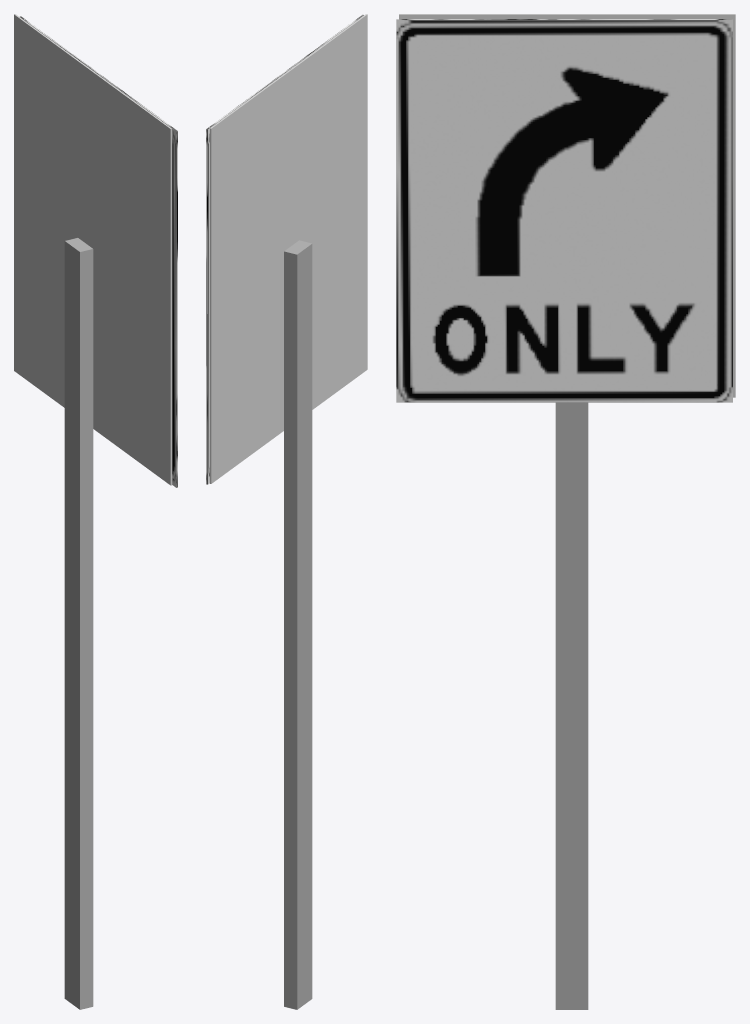
File: right_turn_only.dae
3 renders of one model, left to right at view 1: azimuth 30°, elevation 25°; view 2: azimuth 150°, elevation 25°; view 3: azimuth 270°, elevation 25°, orthographic. The views are drawn at different scales.
Visible parts, largest first — view 1: Cube_002, Cube_001, Cube; view 2: Cube_002, Cube_001, Cube; view 3: Cube, Cube_001, Cube_002.
Boxes of the visible parts, box(x1,y1,x2,y2) form: Cube_002: box(14, 14, 172, 485); Cube_001: box(64, 238, 93, 1009); Cube: box(20, 16, 177, 487); Cube_002: box(210, 14, 367, 483); Cube_001: box(284, 240, 312, 1009); Cube: box(206, 14, 363, 484); Cube: box(396, 19, 732, 402); Cube_001: box(555, 402, 588, 1009); Cube_002: box(399, 14, 735, 397).
Size of the model in its own units: 0.0799 by 0.9209 by 2.99.
